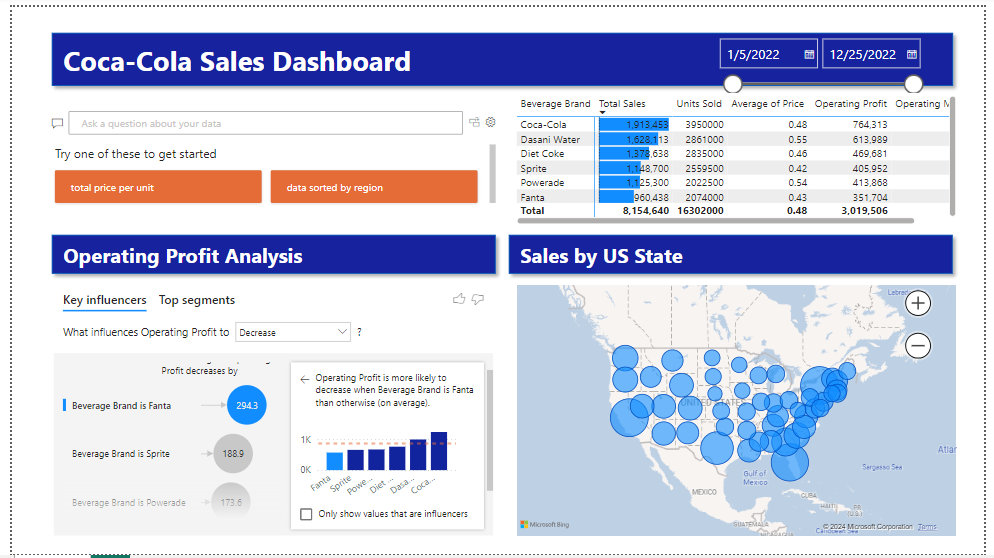

This screenshot's page, from the dashboard's own definition file:
{"tool":"powerbi","page":{"name":"Page 1","canvas":[1280,720],"ordinal":0},"visuals":[{"type":"shape","box":[43.2,24.5,1203.8,87.8],"z":0},{"type":"shape","box":[43.2,290.9,601.9,69.1],"z":1000},{"type":"shape","box":[645.1,290.9,601.9,69.1],"z":2000},{"type":"qnaVisual","box":[43.2,112.3,601.9,178.6],"z":3000},{"type":"keyDriversVisual","fields":{"Target":["Data.Operating Profit"],"ExplainBy":["Data.Beverage Brand"]},"box":[50.4,360,587.5,339.8],"z":4000},{"type":"map","fields":{"Category":["Data.State"],"Size":["Sum(Data.Total Sales)"]},"box":[659.5,360,587.5,339.8],"z":4001},{"type":"pivotTable","fields":{"Rows":["Data.Beverage Brand"],"Values":["Sum(Data.Total Sales)","Sum(Data.Units Sold)","Avg(Data.Price per Unit)","Sum(Data.Operating Profit)","Avg(Data.Operating Margin)"]},"box":[659.5,112.3,587.5,178.6],"z":4002},{"type":"slicer","fields":{"Values":["Data.Invoice Date"]},"box":[918.7,31.7,289.4,80.6],"z":4003}]}

Visuals, with their boxes in screenshot pixels (x1, y1, x2, y2), scaled from the page's 1280x720 canvas onto the 994x558 screenshot:
shape: pyautogui.locateOnScreen(34, 19, 968, 87)
shape: pyautogui.locateOnScreen(34, 225, 501, 279)
shape: pyautogui.locateOnScreen(501, 225, 968, 279)
qnaVisual: pyautogui.locateOnScreen(34, 87, 501, 225)
keyDriversVisual - Data.Operating Profit x Data.Beverage Brand: pyautogui.locateOnScreen(39, 279, 495, 542)
map - Data.State x Sum(Data.Total Sales): pyautogui.locateOnScreen(512, 279, 968, 542)
pivotTable - Data.Beverage Brand x Sum(Data.Total Sales): pyautogui.locateOnScreen(512, 87, 968, 225)
slicer - Data.Invoice Date: pyautogui.locateOnScreen(713, 25, 938, 87)
